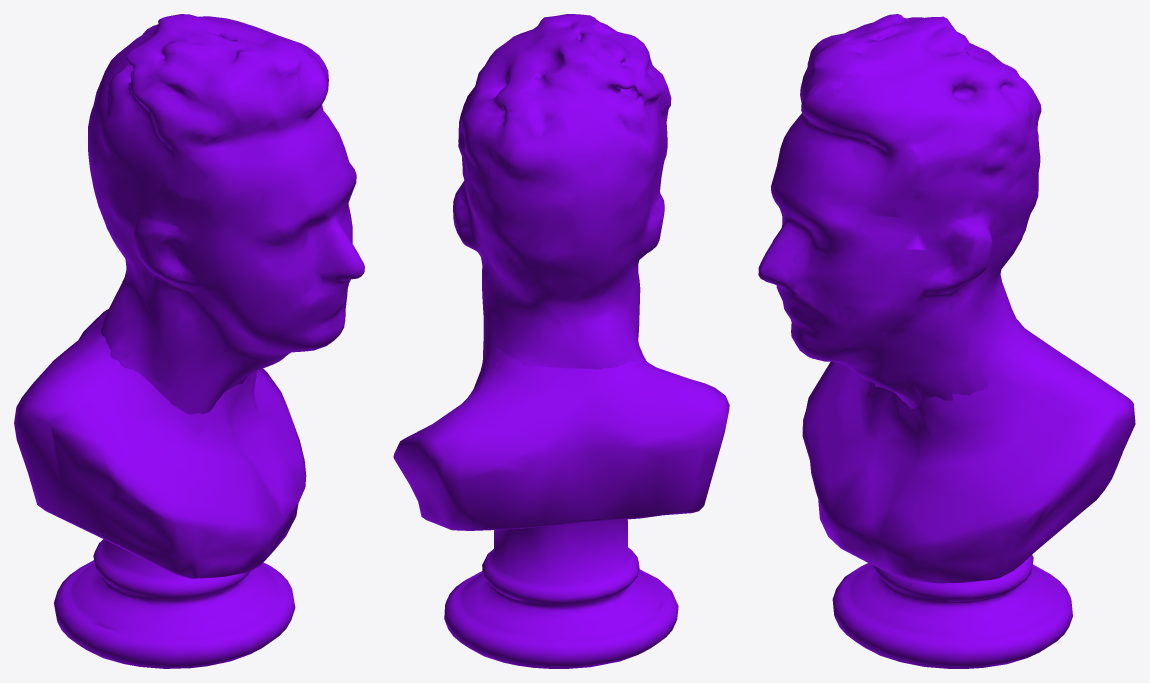
Rendered from Statue_Mira_2.glb.
The picture shows the model from 3 angles, left to right: view 1: azimuth 30°, elevation 25°; view 2: azimuth 150°, elevation 25°; view 3: azimuth 270°, elevation 25°; orthographic projection. The views are drawn at different scales.
Parts seen in each view (by area): view 1: mira; view 2: mira; view 3: mira.
Part boxes in pixels (x1,y1,x2,y2): mira: (14, 14, 364, 668); mira: (393, 14, 729, 668); mira: (758, 14, 1135, 668).
Size of the model in its own units: 0.1126 by 0.2173 by 0.1238.
